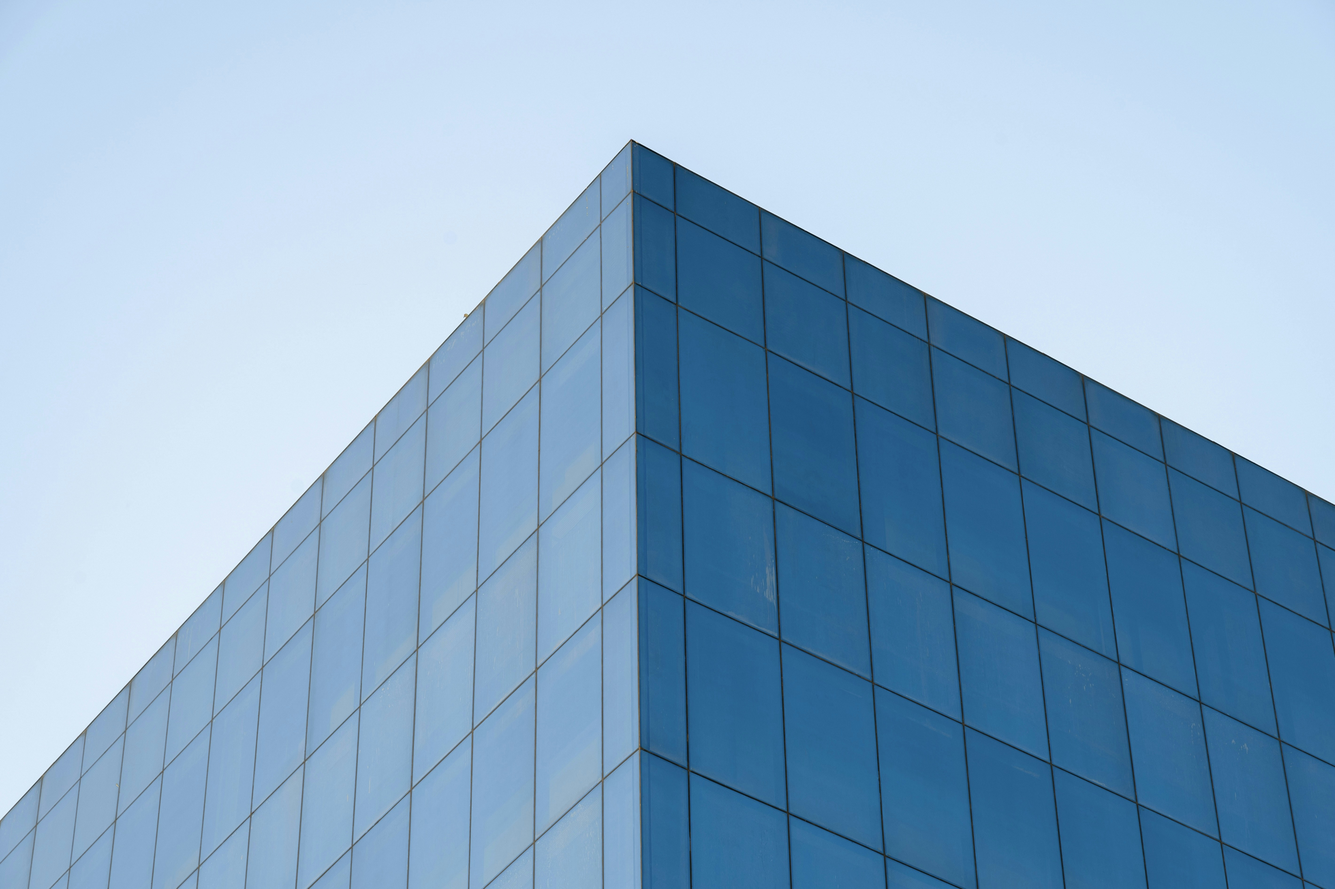glass panel: (686, 602, 786, 807), (783, 646, 880, 850), (876, 690, 974, 886), (769, 354, 860, 536), (679, 312, 770, 493), (683, 460, 778, 632), (941, 439, 1032, 618), (855, 400, 947, 577), (1104, 520, 1196, 696), (1122, 667, 1217, 836), (1182, 562, 1275, 733), (777, 504, 870, 675), (1039, 628, 1132, 797), (867, 550, 960, 719), (954, 591, 1048, 758), (965, 729, 1062, 889), (1204, 707, 1297, 870), (1023, 481, 1111, 651), (535, 615, 601, 832), (469, 676, 534, 889), (1260, 600, 1335, 762), (539, 323, 600, 519), (474, 537, 537, 723), (538, 472, 601, 658), (690, 773, 789, 889), (478, 388, 538, 579), (414, 597, 475, 781), (420, 449, 479, 639), (362, 511, 420, 699), (362, 512, 420, 699), (307, 565, 365, 752), (764, 264, 851, 388), (1055, 770, 1145, 889), (677, 217, 762, 342), (298, 712, 358, 889), (355, 659, 415, 835), (202, 675, 259, 857), (850, 305, 934, 428), (1013, 389, 1097, 511), (932, 349, 1016, 470), (254, 623, 311, 801), (1092, 429, 1176, 549), (1169, 468, 1252, 587), (1244, 506, 1327, 624), (408, 736, 471, 889), (153, 727, 209, 889), (639, 582, 687, 765), (542, 235, 599, 371), (483, 296, 540, 432), (1282, 744, 1335, 889), (676, 166, 760, 254), (370, 418, 425, 550), (637, 437, 683, 592), (426, 358, 481, 487), (762, 211, 844, 297), (1139, 808, 1226, 889), (535, 785, 602, 889), (845, 254, 926, 339), (636, 288, 679, 448), (602, 582, 638, 773), (790, 816, 884, 889), (246, 769, 302, 889), (317, 477, 370, 602), (265, 531, 317, 658), (1006, 338, 1085, 421), (927, 298, 1007, 379), (642, 754, 690, 889), (1086, 379, 1163, 460), (167, 638, 217, 762), (215, 589, 266, 710), (74, 736, 124, 858), (119, 691, 169, 812), (1162, 420, 1238, 498), (1237, 457, 1312, 536), (542, 179, 599, 282), (109, 780, 160, 889), (484, 244, 540, 341), (351, 796, 409, 889), (602, 753, 641, 889), (602, 291, 634, 456), (603, 440, 635, 601), (30, 789, 77, 889), (376, 367, 426, 459), (428, 316, 482, 401), (323, 425, 373, 515), (273, 479, 321, 571), (634, 196, 675, 298), (222, 535, 270, 622), (174, 587, 220, 673), (82, 688, 128, 772), (129, 638, 174, 722), (39, 736, 84, 815), (601, 197, 633, 308), (198, 820, 249, 889), (1224, 846, 1301, 889), (0, 781, 40, 859), (69, 827, 113, 889), (633, 144, 674, 209), (601, 145, 631, 218), (1308, 494, 1335, 549), (1317, 543, 1335, 621)
